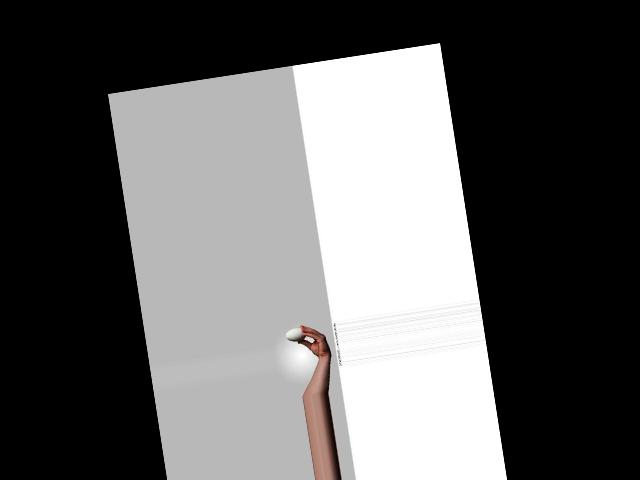egg: (284, 326, 307, 343)
